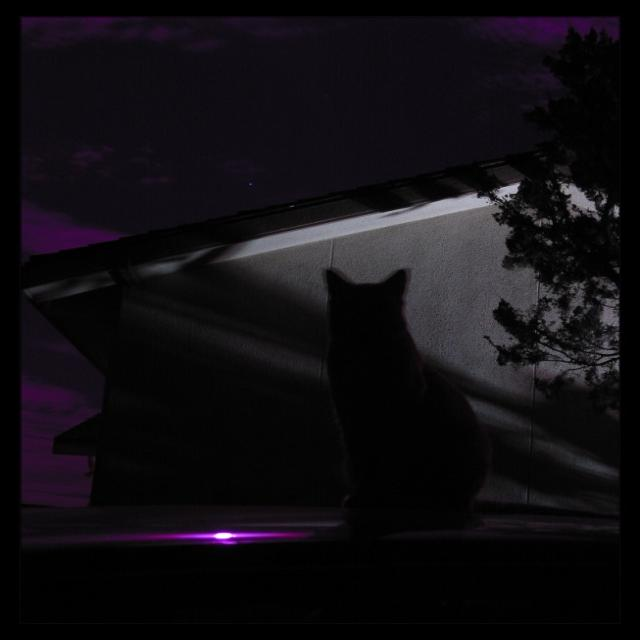Cat: (296, 251, 514, 545)
